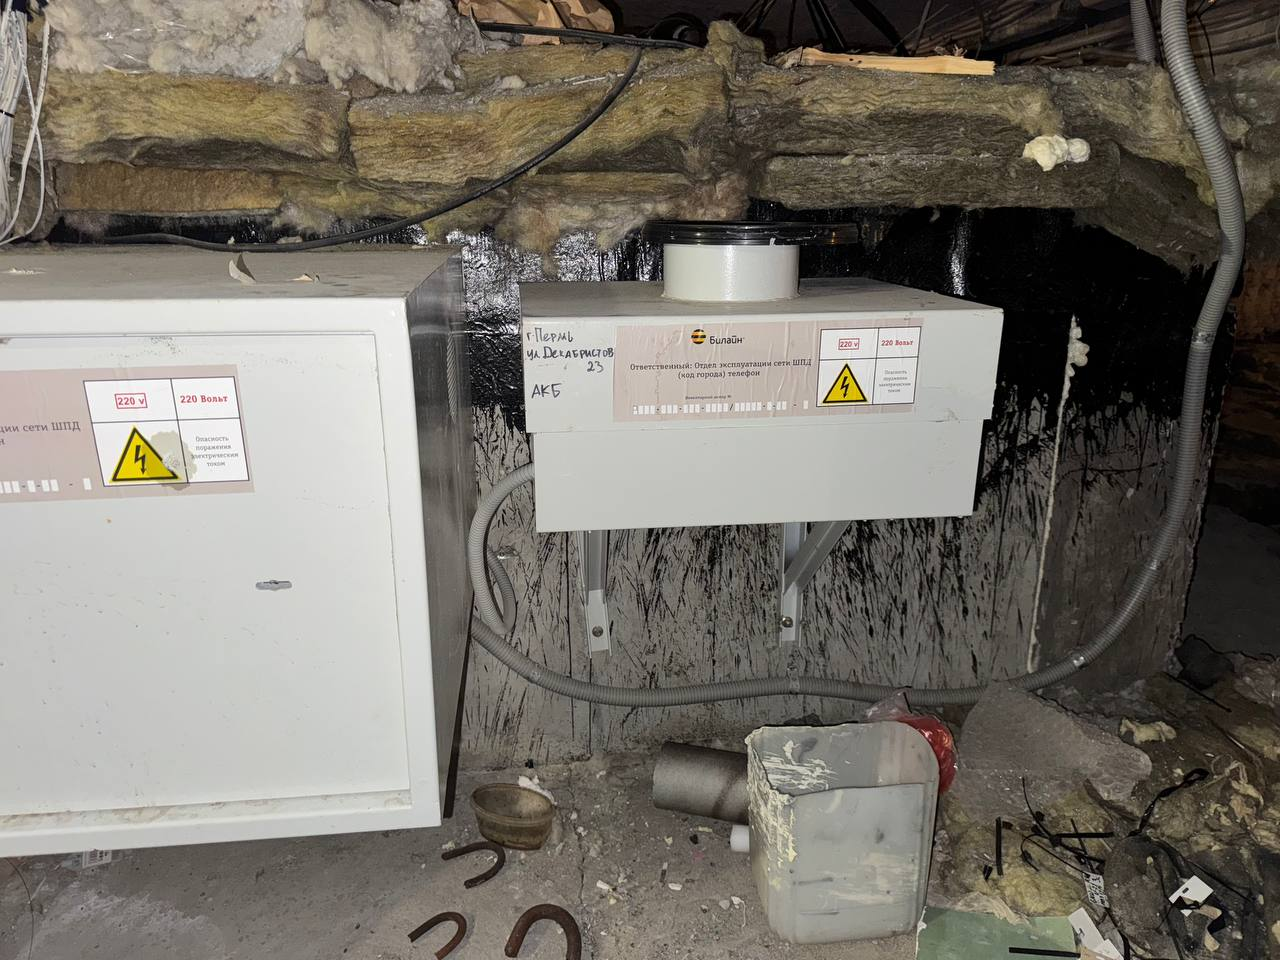shta-9m: (1, 235, 484, 874)
shta-ps: (499, 221, 1018, 546)
